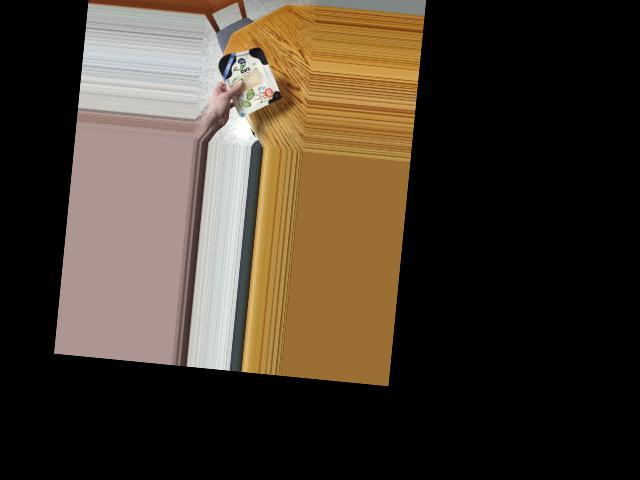cheese: (215, 45, 281, 112)
